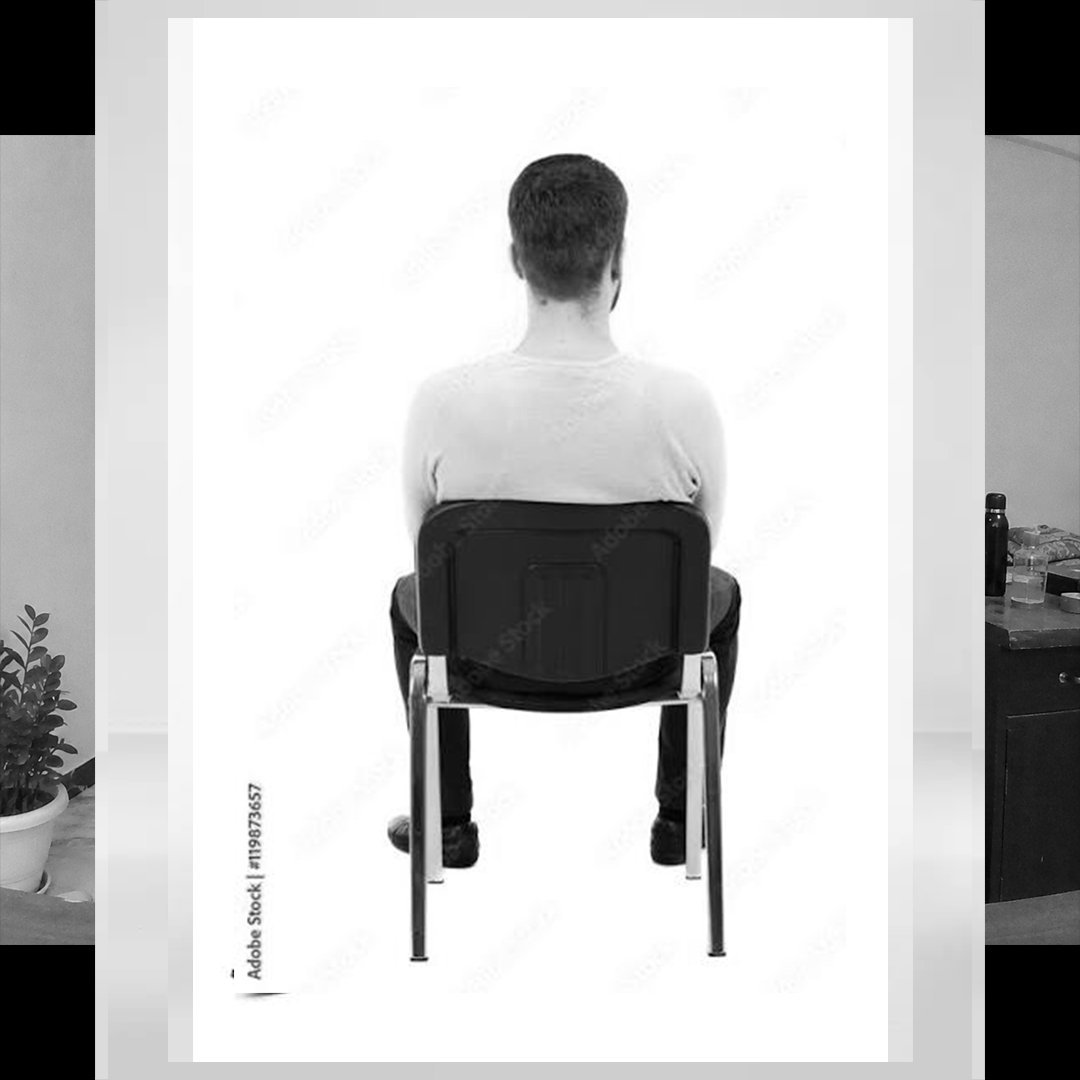distracted: (431, 108, 712, 670)
